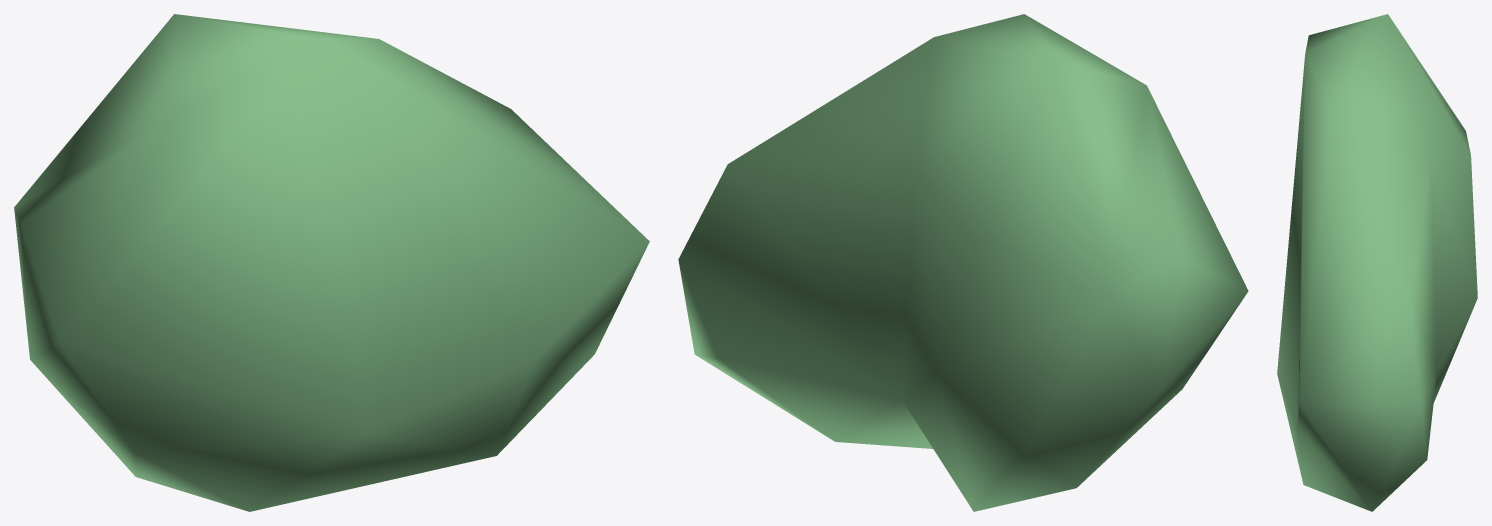
The model's file is rock_001_e.fbx.
3 views of the same model, side by side, from view 1: azimuth 30°, elevation 25°; view 2: azimuth 150°, elevation 25°; view 3: azimuth 270°, elevation 25° (orthographic). The views are drawn at different scales.
Visible parts, largest first — view 1: rock_001_e_LOD0; view 2: rock_001_e_LOD0; view 3: rock_001_e_LOD0.
Part boxes in pixels (box(x1,y1,x2,y2)): rock_001_e_LOD0: box(14, 14, 649, 511); rock_001_e_LOD0: box(678, 14, 1248, 511); rock_001_e_LOD0: box(1277, 14, 1477, 511).
Bounding box in the file's own units: 72.19 × 27.37 × 59.46.
